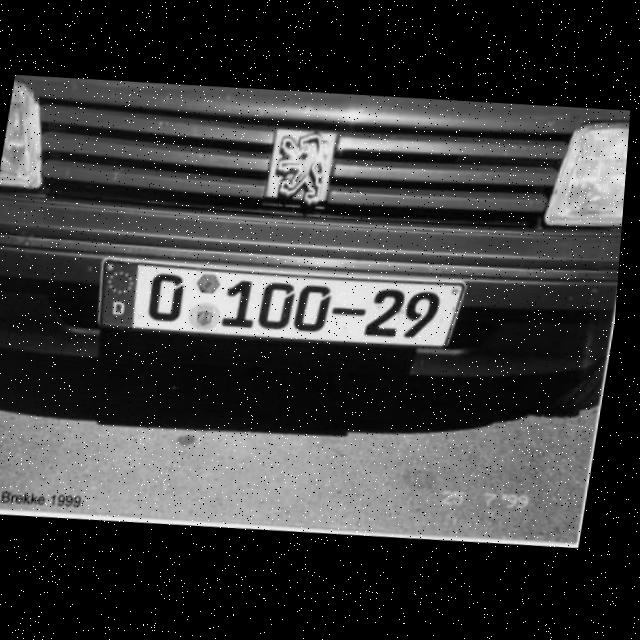license-plates: (98, 258, 465, 347)
